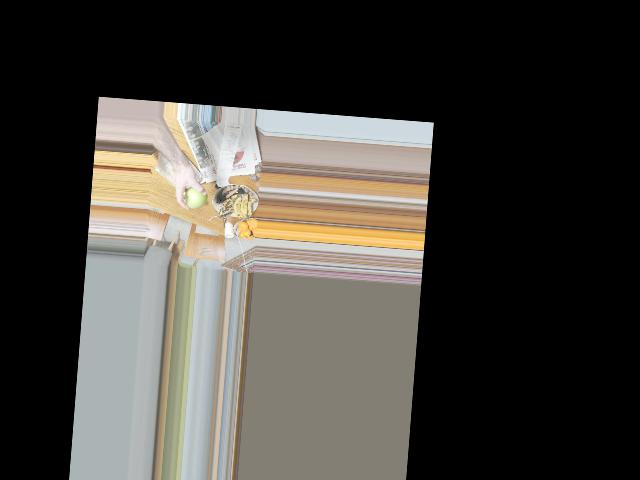apple: (185, 184, 203, 209)
